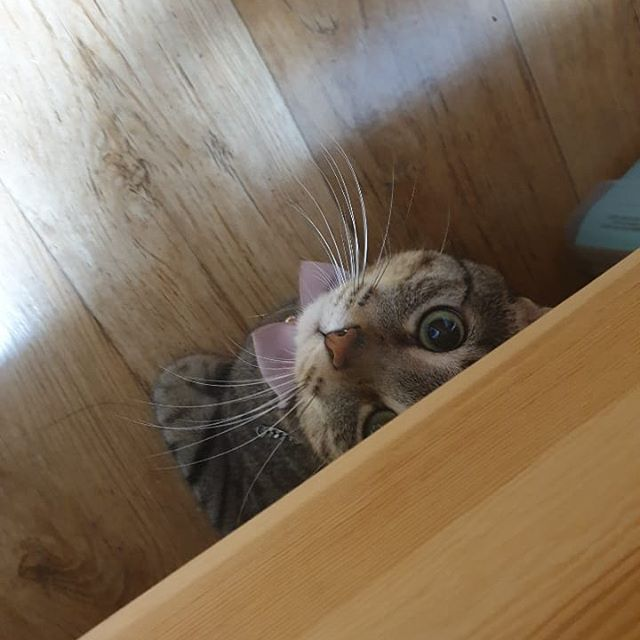cat: (277, 234, 574, 463)
